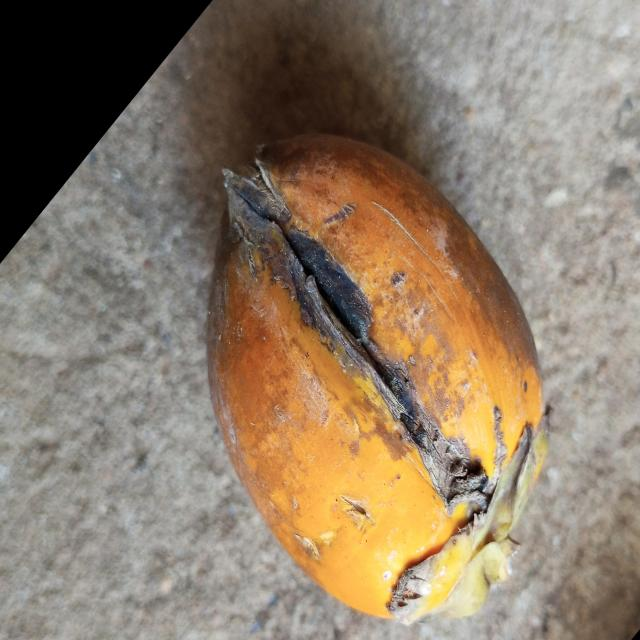damaged: (206, 134, 548, 626)
